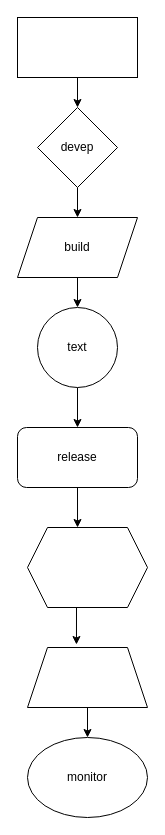
Image size: 165x835. Some labels were removed from this diagram. Each missing label, with the centre of its shape:
"deploy" goes at pixel 87 567.
"operate" goes at pixel 87 677.
"plan" goes at pixel 77 47.
